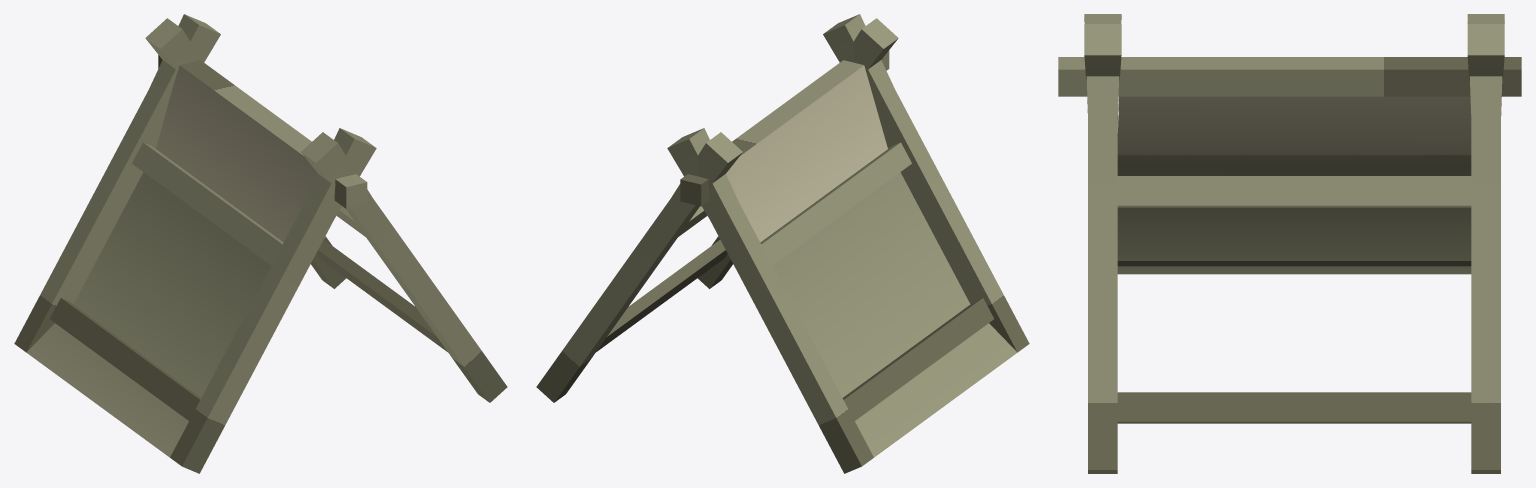
File: shelter-open-awning.glb
3 renders of one model, left to right at view 1: azimuth 30°, elevation 25°; view 2: azimuth 150°, elevation 25°; view 3: azimuth 270°, elevation 25°, orthographic. The views are drawn at different scales.
Visible parts, largest first — view 1: shelter-open-awning runtime mesh; view 2: shelter-open-awning runtime mesh; view 3: shelter-open-awning runtime mesh.
Part boxes in pixels (x1,y1,x2,y2): shelter-open-awning runtime mesh: (14,14,507,473); shelter-open-awning runtime mesh: (536,14,1029,473); shelter-open-awning runtime mesh: (1058,14,1521,473).
Size of the model in its own units: 2.17 by 1.9 by 2.17.
1 material, 1 textured.
